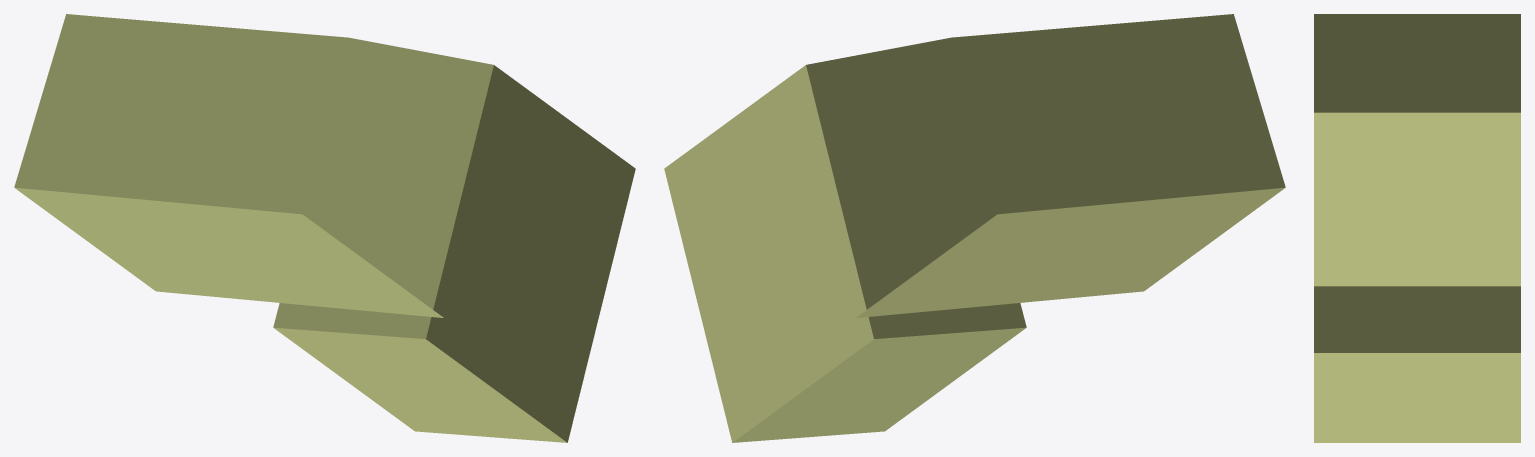
3 renders of one model, left to right at view 1: azimuth 30°, elevation 25°; view 2: azimuth 150°, elevation 25°; view 3: azimuth 270°, elevation 25°, orthographic. The views are drawn at different scales.
Parts seen in each view (by area): view 1: 0_0_1_3_2_1_2_1_1_2; view 2: 0_0_1_3_2_1_2_1_1_2; view 3: 0_0_1_3_2_1_2_1_1_2.
Part boxes in pixels (bbox=[...]): 0_0_1_3_2_1_2_1_1_2: bbox=[14, 14, 635, 442]; 0_0_1_3_2_1_2_1_1_2: bbox=[664, 14, 1285, 442]; 0_0_1_3_2_1_2_1_1_2: bbox=[1314, 14, 1520, 442].
Bounding box in the file's own units: 17.58 × 14.46 × 9.
